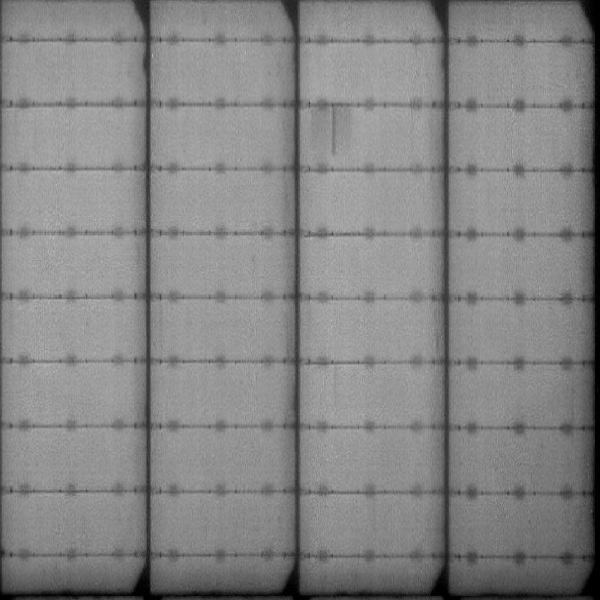scratch: (329, 103, 341, 160)
